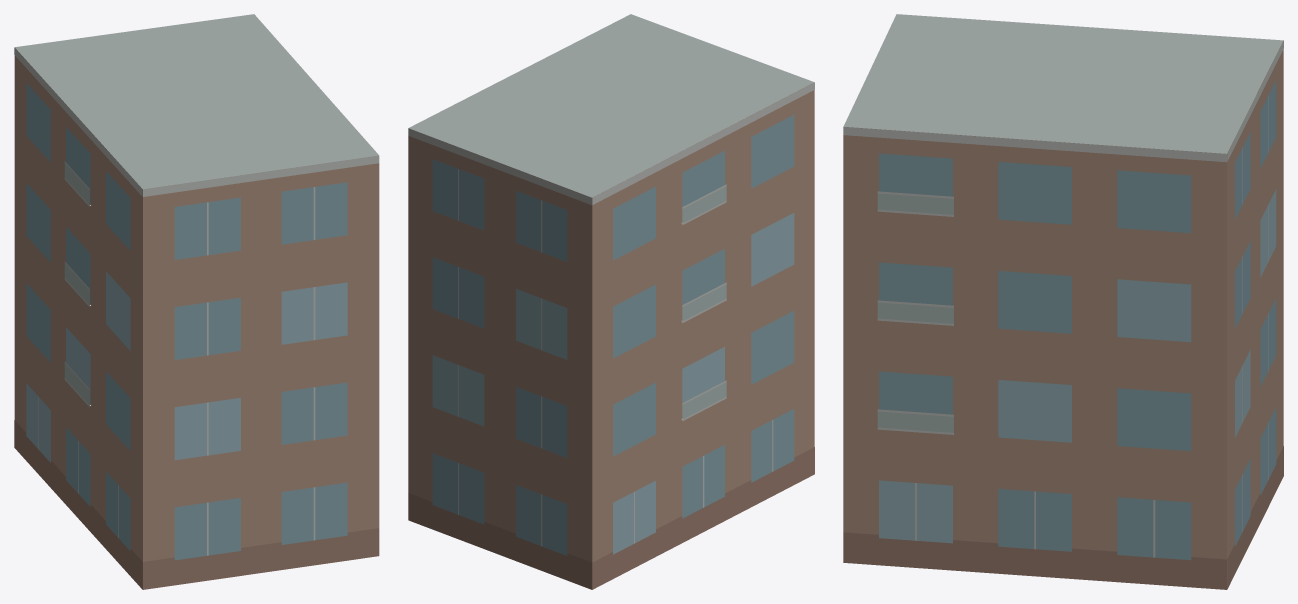
The model's file is survey-upis-32959397.glb.
The picture shows the model from 3 angles, left to right: view 1: azimuth 30°, elevation 25°; view 2: azimuth 150°, elevation 25°; view 3: azimuth 270°, elevation 25°; orthographic projection. The views are drawn at different scales.
Parts seen in each view (by area): view 1: survey-upis-32959397.tmp; view 2: survey-upis-32959397.tmp; view 3: survey-upis-32959397.tmp.
Part boxes in pixels (left/top/right/bottom): survey-upis-32959397.tmp: left=14, top=14, right=379, bottom=589; survey-upis-32959397.tmp: left=408, top=14, right=814, bottom=589; survey-upis-32959397.tmp: left=843, top=14, right=1283, bottom=589.
Bounding box in the file's own units: 8.75 × 12.7 × 11.63.
